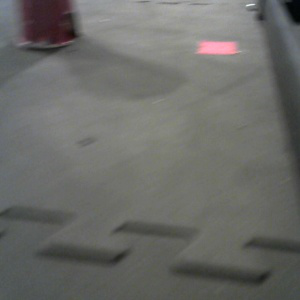middle: (20, 1, 78, 47)
